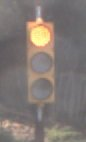Red: (25, 9, 57, 113)
